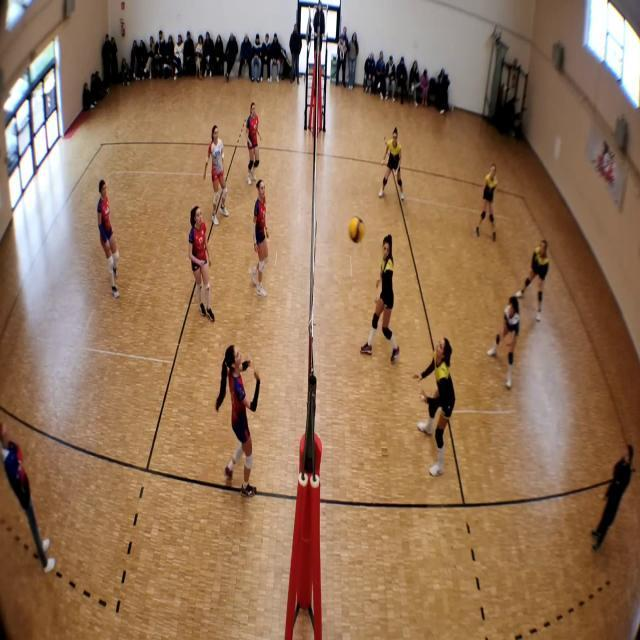volleyball: (348, 216, 366, 242)
